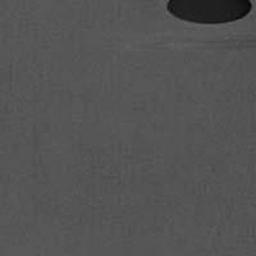Punching: (167, 0, 252, 24)
